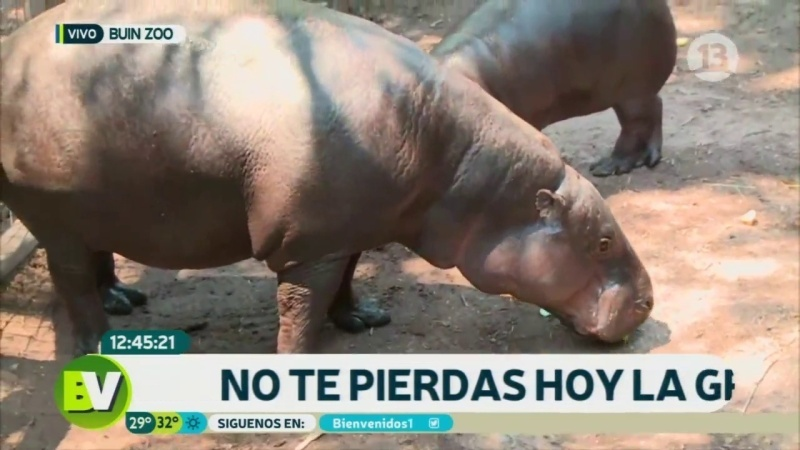hipopotamo: (1, 1, 704, 351), (416, 1, 693, 195)
